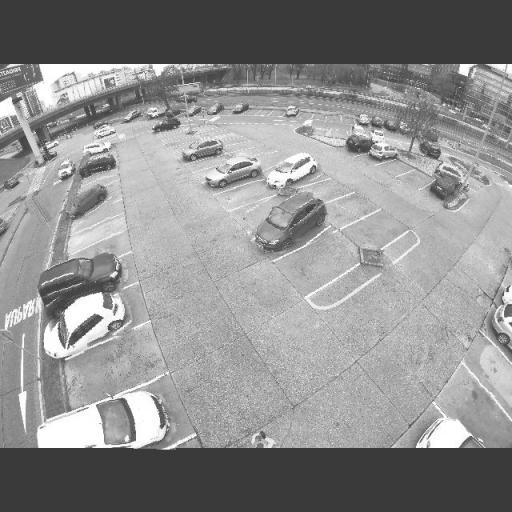busy: (46, 377, 178, 449), (45, 282, 133, 354), (246, 192, 332, 253), (39, 253, 121, 302), (261, 152, 323, 188), (202, 157, 259, 189), (64, 185, 114, 218), (180, 136, 222, 160), (80, 154, 118, 178), (430, 174, 460, 200), (366, 141, 397, 160), (344, 132, 372, 153), (440, 162, 466, 184), (152, 118, 180, 134), (419, 140, 442, 159), (54, 160, 77, 178), (82, 142, 110, 156), (144, 106, 165, 121), (232, 102, 250, 114), (206, 103, 224, 115), (122, 111, 140, 123), (355, 114, 370, 126), (286, 106, 300, 118), (386, 120, 400, 132), (370, 116, 384, 127)
free: (84, 336, 146, 396), (455, 389, 497, 435), (473, 346, 506, 388), (306, 244, 346, 274), (358, 222, 390, 242), (94, 239, 117, 262), (332, 201, 359, 218), (84, 209, 110, 225), (89, 223, 114, 239), (311, 185, 334, 199), (323, 111, 344, 126), (240, 187, 262, 200), (406, 174, 426, 188), (258, 200, 278, 214), (244, 146, 264, 160), (203, 157, 226, 168), (230, 139, 245, 155), (95, 172, 111, 186), (387, 163, 405, 173), (272, 109, 285, 118), (300, 109, 313, 118)
